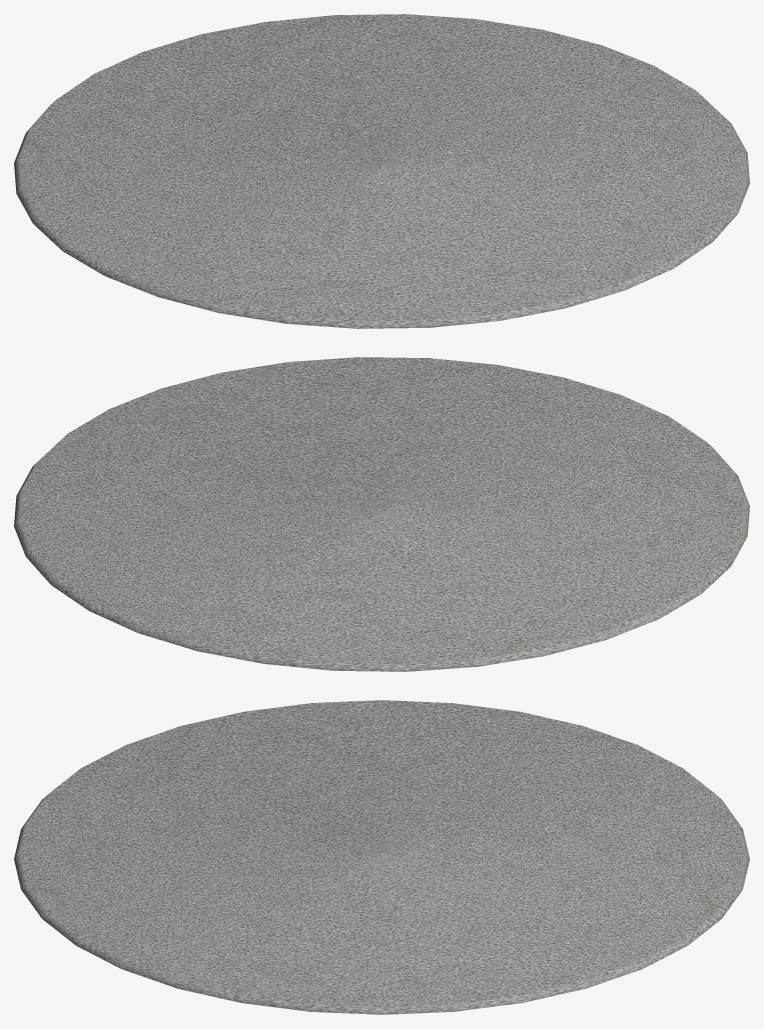
File: ModularCircle.fbx
3 views of the same model, one above another, from view 1: azimuth 30°, elevation 25°; view 2: azimuth 150°, elevation 25°; view 3: azimuth 270°, elevation 25° (orthographic).
Parts seen in each view (by area): view 1: ModularCircle; view 2: ModularCircle; view 3: ModularCircle.
Boxes of the visible parts, x1,y1,x2,y2 form: ModularCircle: (14, 14, 749, 328); ModularCircle: (14, 357, 749, 671); ModularCircle: (14, 700, 749, 1014).
Size of the model in its own units: 610 by 5.76 by 610.
